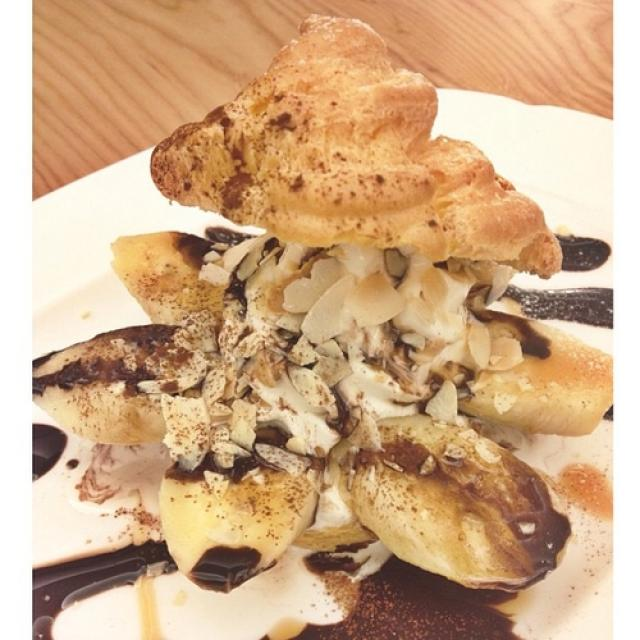炸货点心: (40, 8, 612, 628)
蛋糕甜品: (40, 8, 612, 628)
